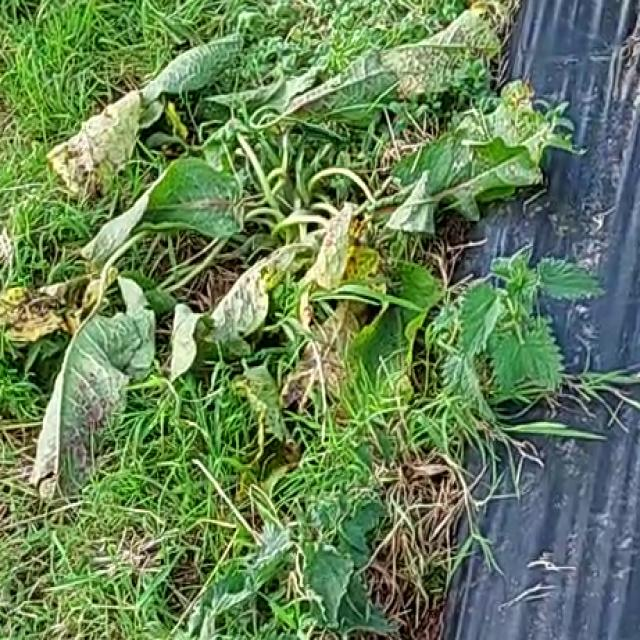organic waste: (28, 14, 508, 489)
